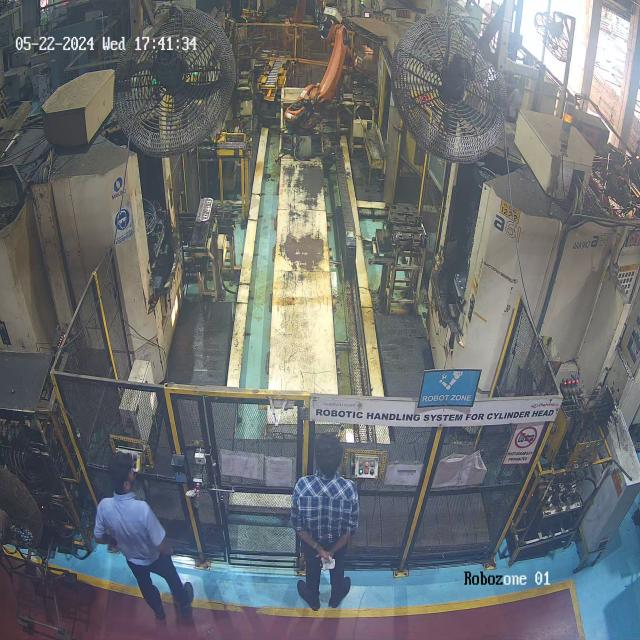person: (85, 437, 210, 636), (288, 427, 366, 608)
